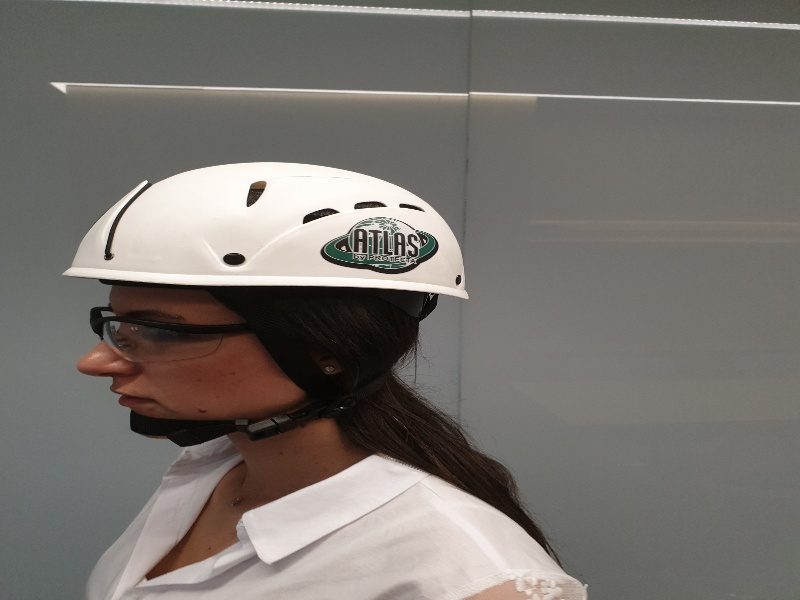Baret: (62, 161, 488, 301)
Gozluk: (79, 303, 275, 363)
